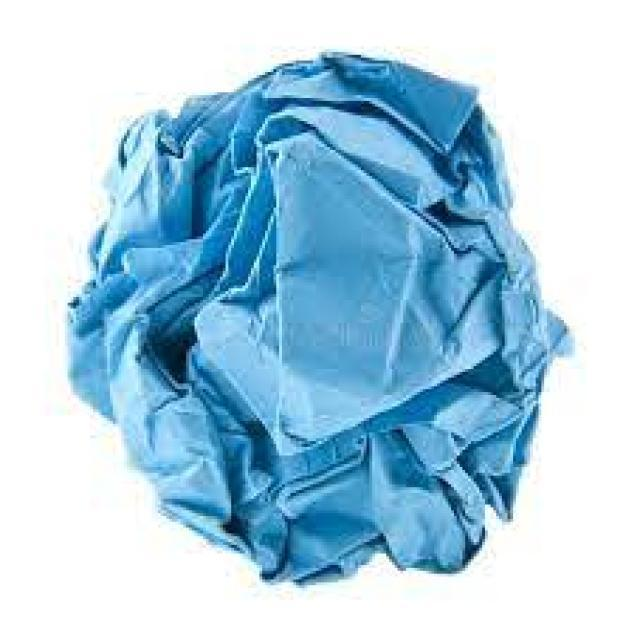Paper: (62, 52, 567, 591)
